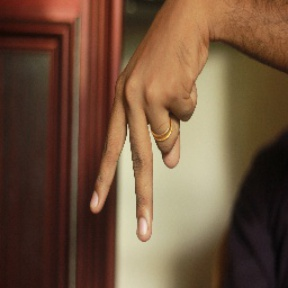Y: (85, 58, 205, 245)
